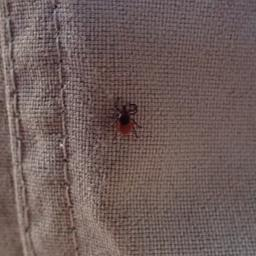Ixodes scapularis: (106, 99, 142, 141)
